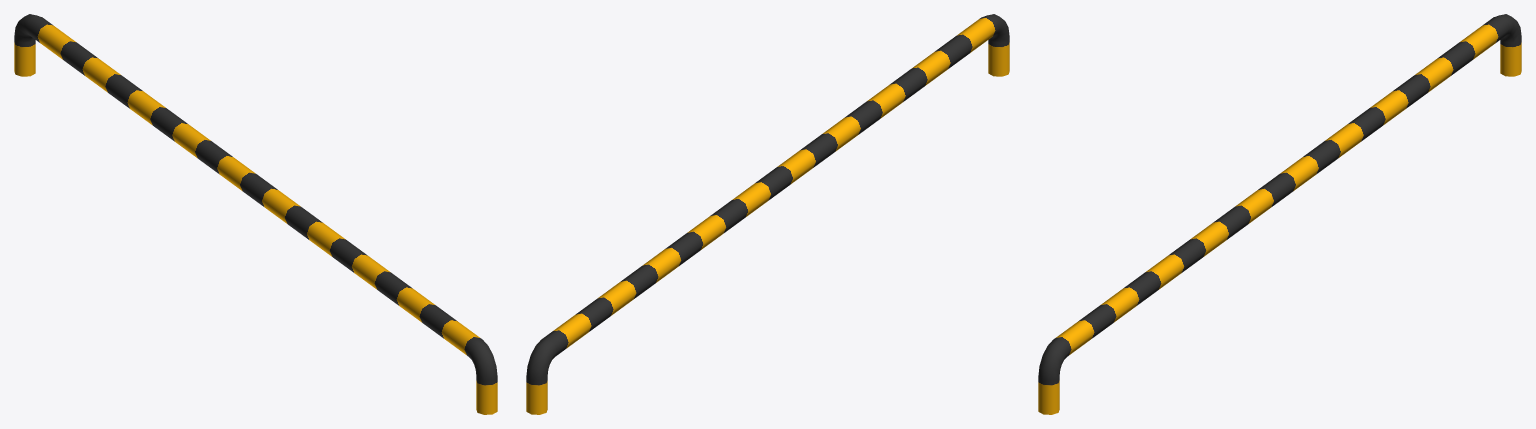
Rendered from pipe.fbx.
The picture shows the model from 3 angles, left to right: view 1: azimuth 30°, elevation 25°; view 2: azimuth 150°, elevation 25°; view 3: azimuth 330°, elevation 25°; orthographic projection.
Parts seen in each view (by area): view 1: Pipe_36, Pipe_38, Pipe_39.001, Pipe_39; view 2: Pipe_36, Pipe_38.001, Pipe_39, Pipe_39.001; view 3: Pipe_36, Pipe_38, Pipe_39.001, Pipe_39.
Part boxes in pixels (bbox=[...]): Pipe_36: bbox=[26, 16, 482, 356]; Pipe_38: bbox=[466, 338, 497, 380]; Pipe_39.001: bbox=[14, 38, 35, 76]; Pipe_39: bbox=[476, 376, 497, 414]; Pipe_36: bbox=[541, 16, 997, 356]; Pipe_38.001: bbox=[526, 339, 557, 380]; Pipe_39: bbox=[988, 38, 1009, 76]; Pipe_39.001: bbox=[526, 376, 547, 414]; Pipe_36: bbox=[1053, 16, 1509, 356]; Pipe_38: bbox=[1038, 338, 1069, 380]; Pipe_39.001: bbox=[1500, 38, 1521, 76]; Pipe_39: bbox=[1038, 376, 1059, 414].
Bounding box in the file's own units: 26.54 × 84.4 × 1130.
Materials: 1 (1 with a texture image).
